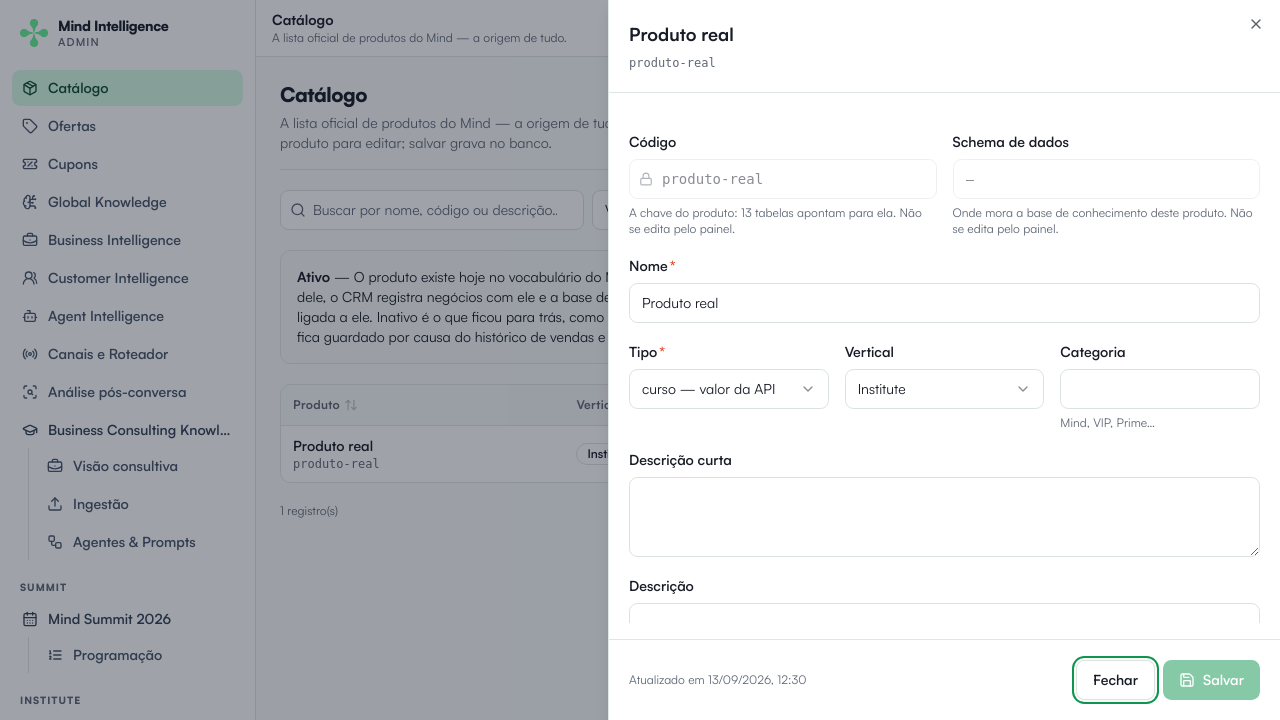
Test case: códigos de erro da API real › 409 no salvamento abre o diálogo de conflito
This screenshot has width=1280, height=720.
Type " editado" into the field labelled "Nome*" at (944, 303), box 629,283 -> 1260,323
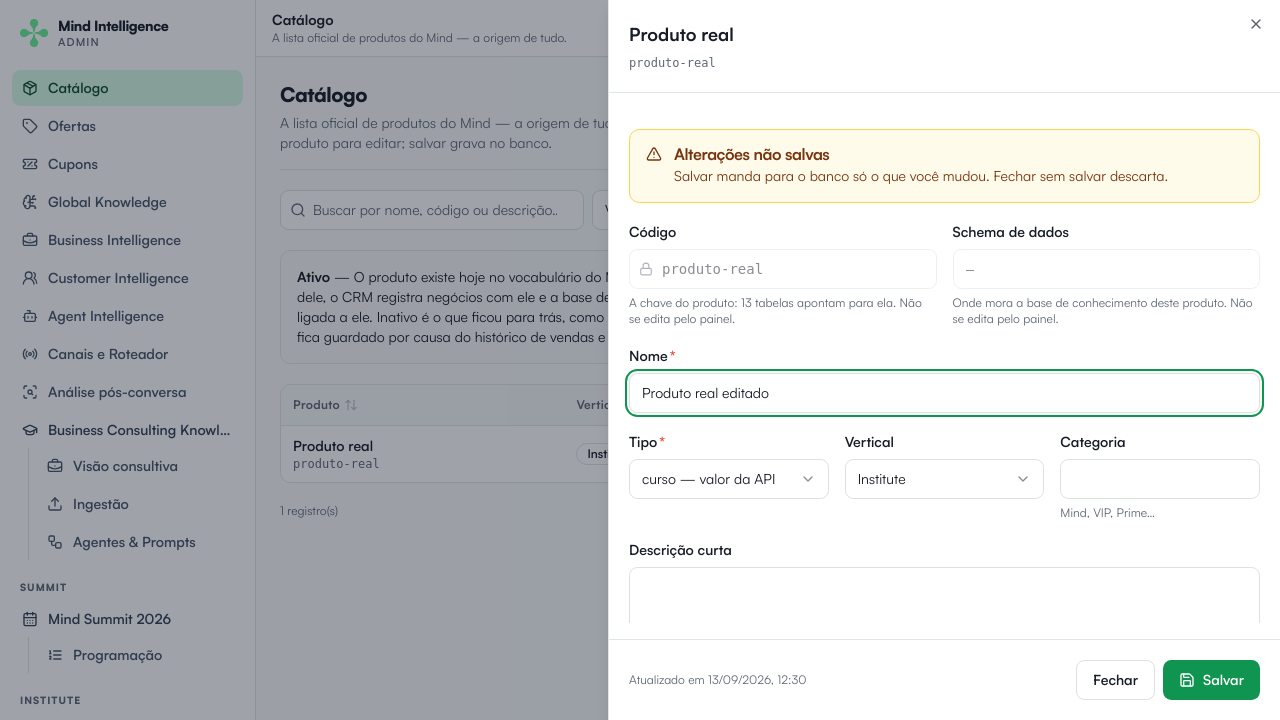
Click the button "Salvar" at (1212, 680), box 1163,660 -> 1260,700
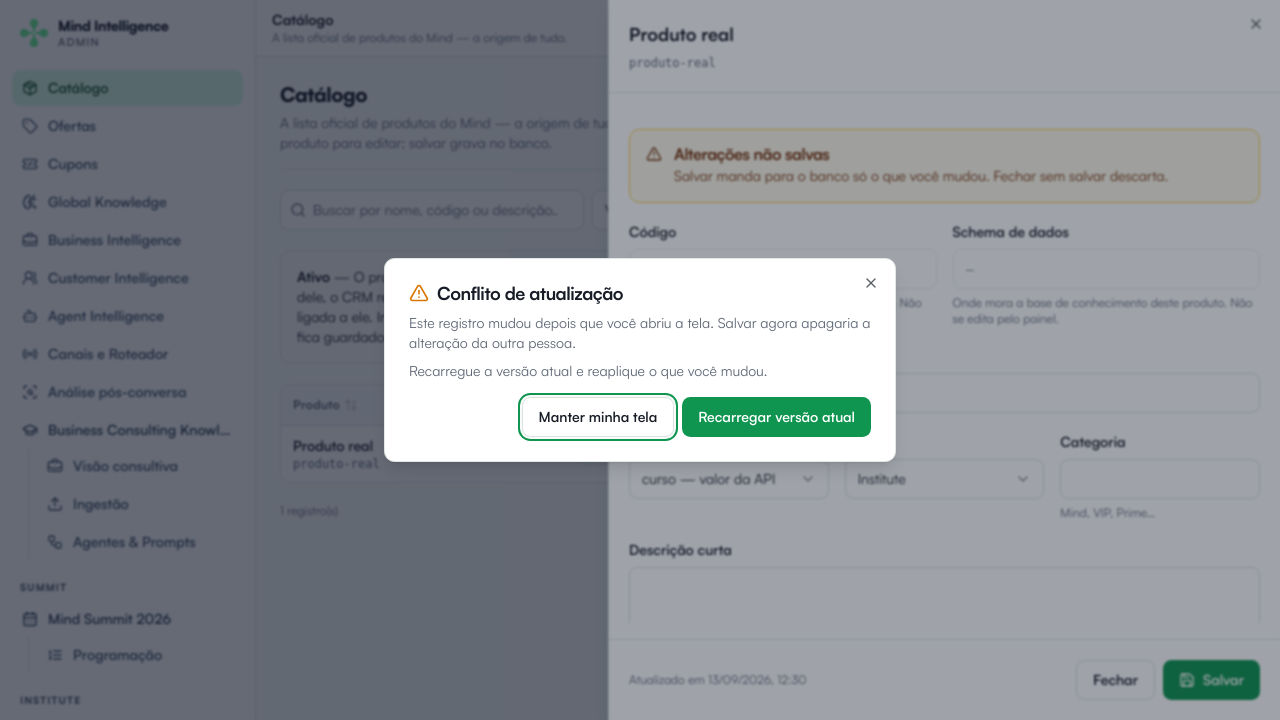
Expected: the heading "Conflito de atualização" is shown, 409,282 -> 623,304
Expected: the text "apagaria a alteração da outra pessoa" is shown, 409,314 -> 870,351
